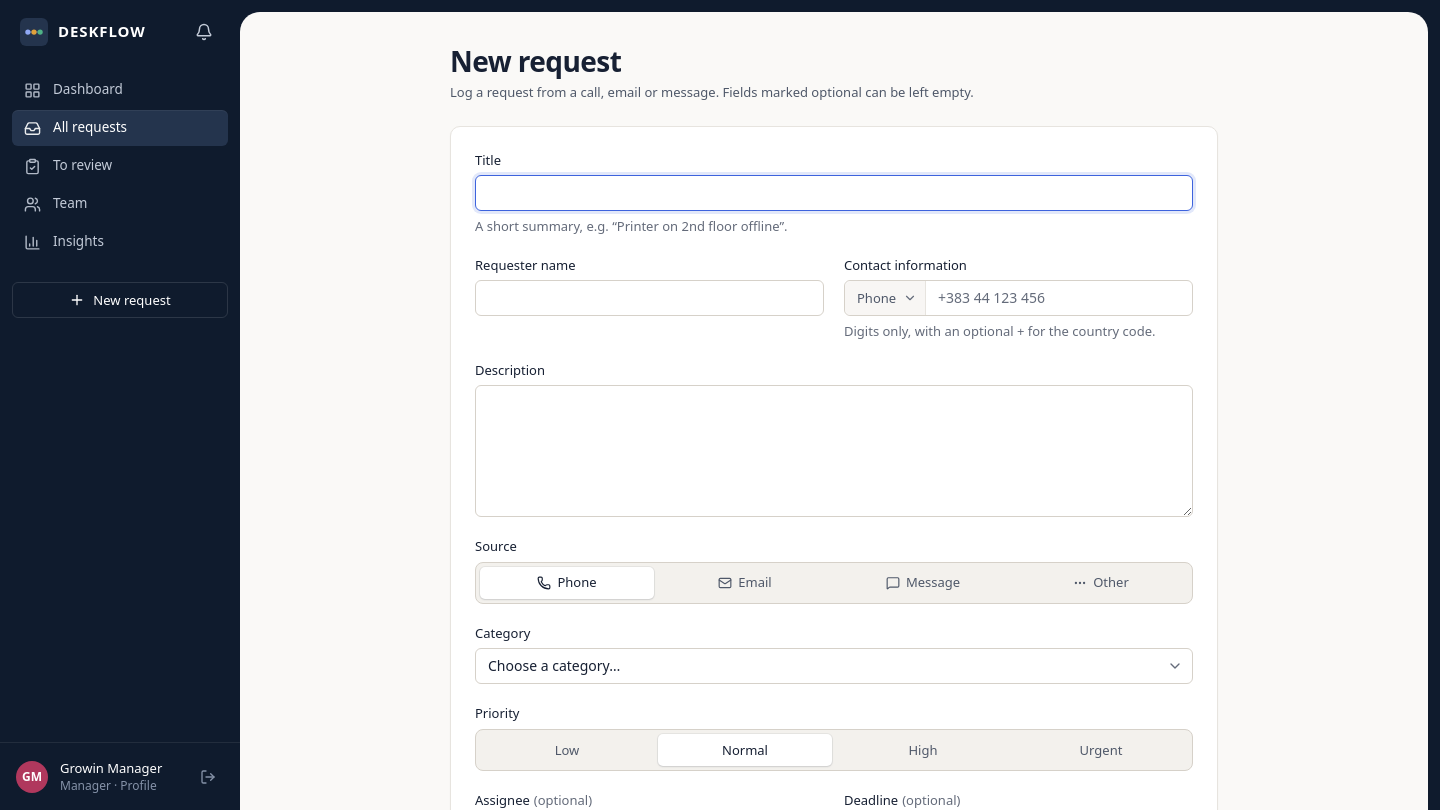
Test case: contact field › explains what is wrong with an email when the field is left
Select "Email" in the dropdown named "Contact type" at (885, 298), box [845,281,925,315]
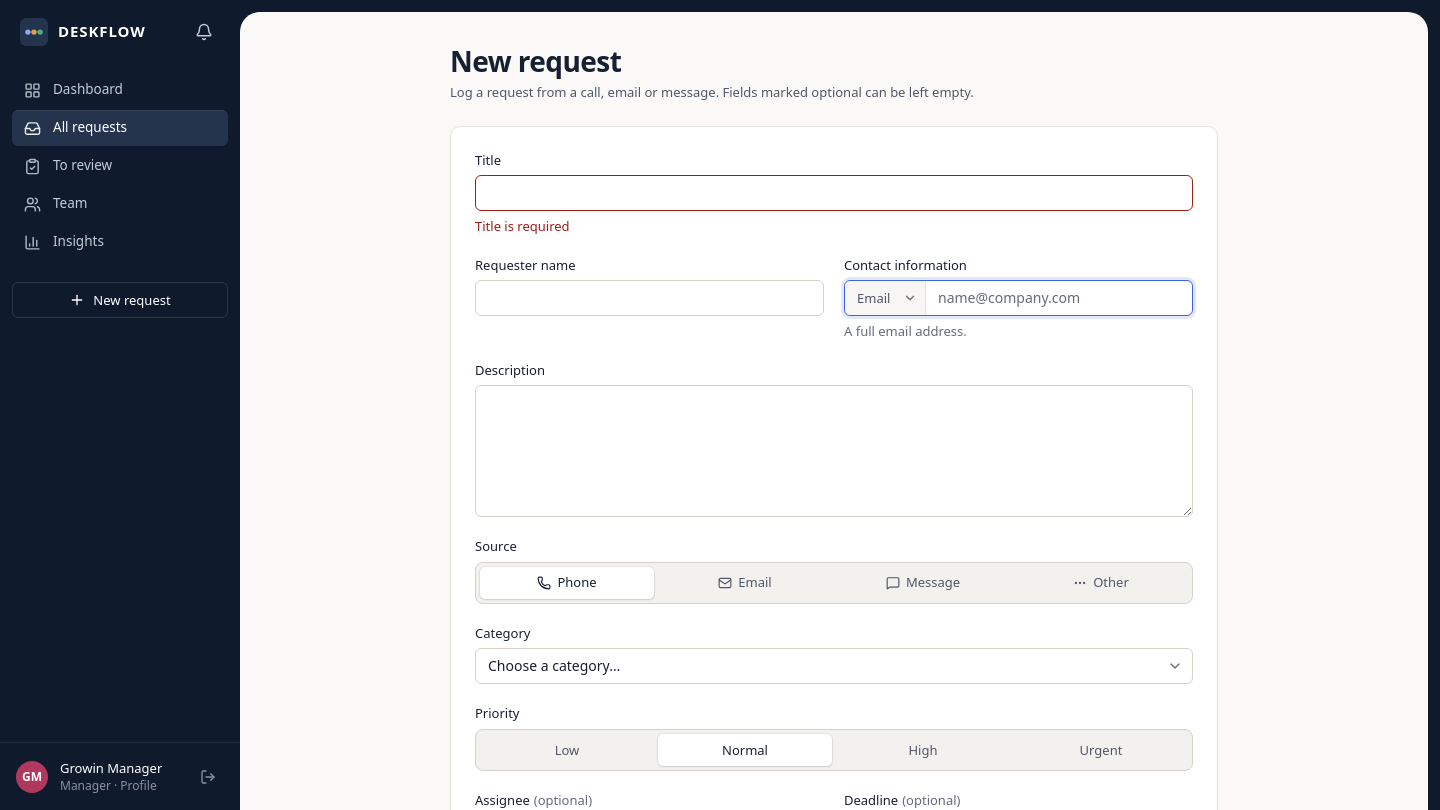
Check: the field labelled "Contact information" has attribute type="email"
Type "laura@" into the field labelled "Contact information" at (1059, 298), box [926,281,1192,315]
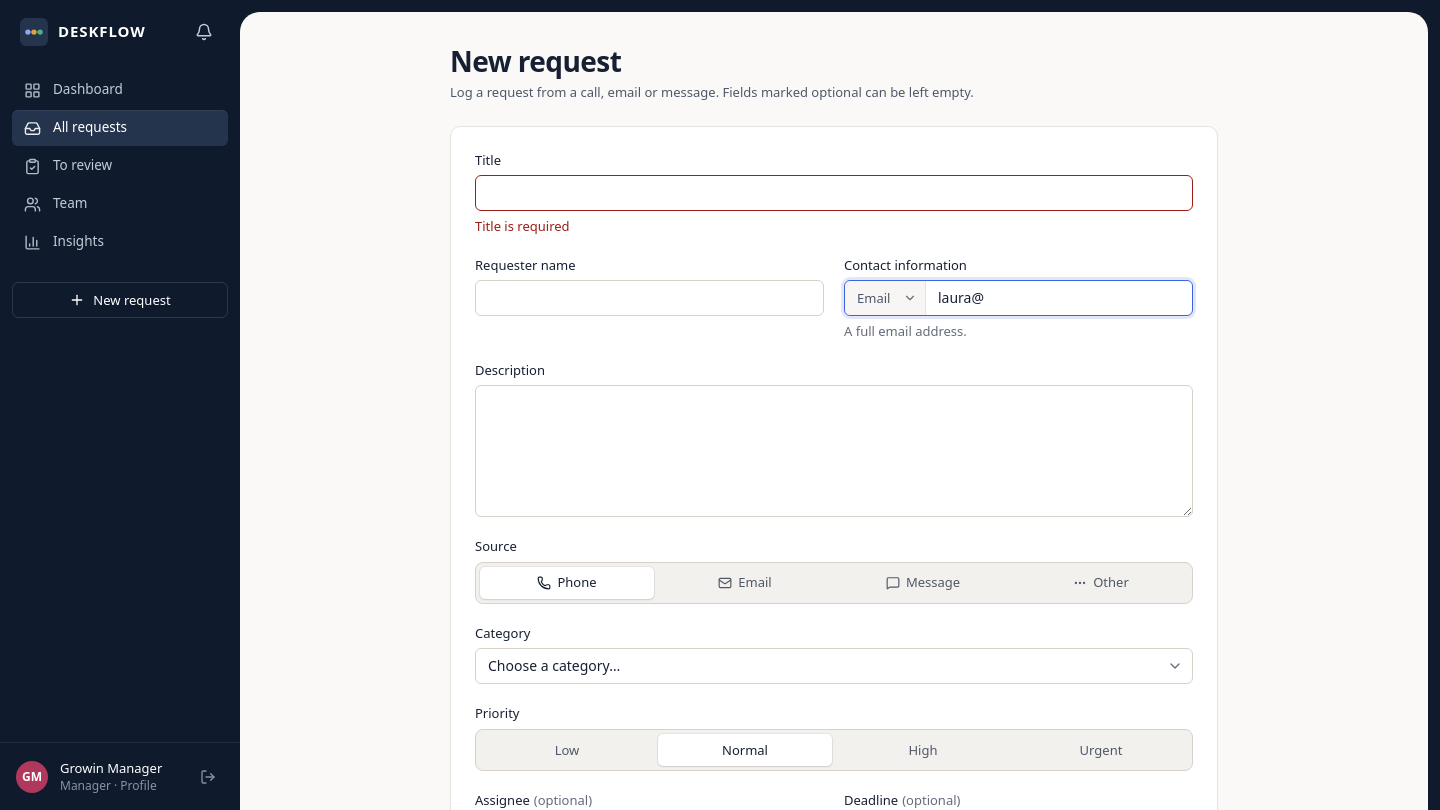
Press Tab
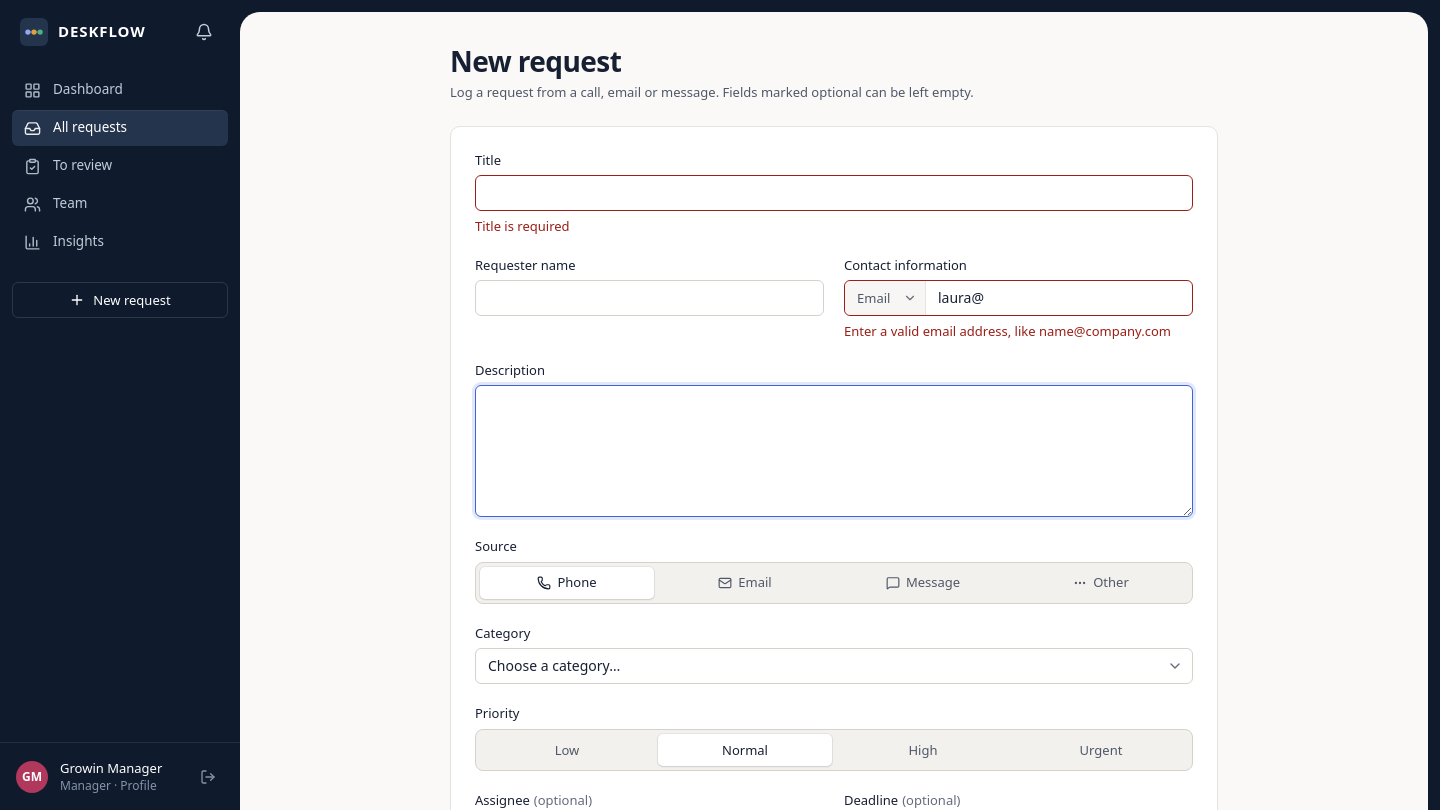
Check: the text "Enter a valid email address, like name@company.com" is shown, box [844,322,1193,341]
